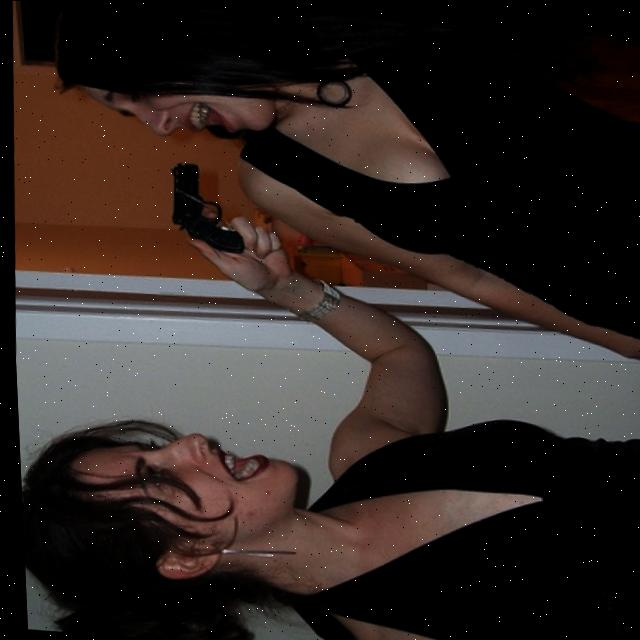pistol: (162, 158, 245, 252)
